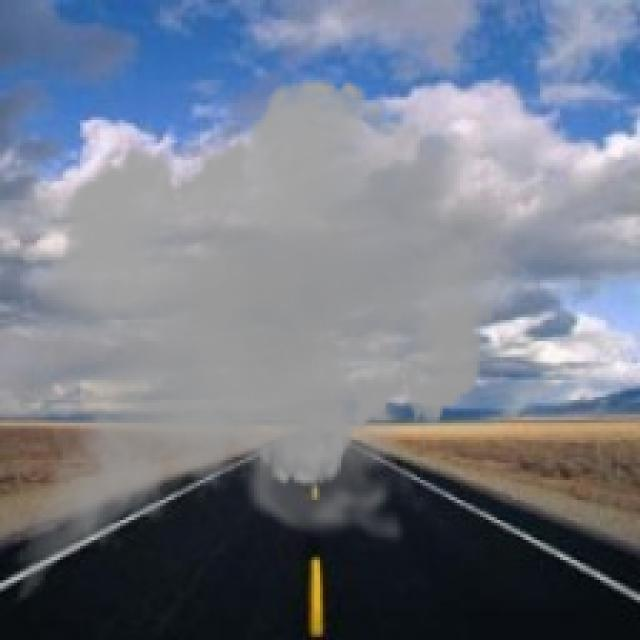smoke: (3, 63, 543, 631)
